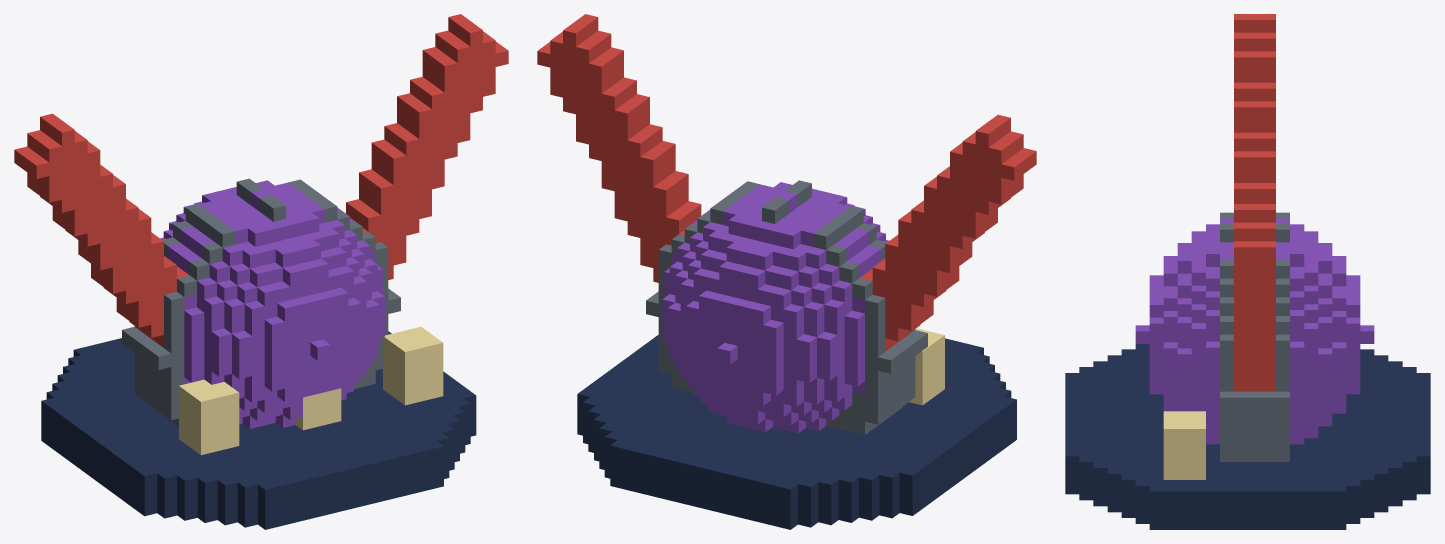
The model's file is voxel_32_60030.glb.
3 renders of one model, left to right at view 1: azimuth 30°, elevation 25°; view 2: azimuth 150°, elevation 25°; view 3: azimuth 270°, elevation 25°, orthographic. The views are drawn at different scales.
Visible parts, largest first — view 1: prop_60030; view 2: prop_60030; view 3: prop_60030.
Boxes of the visible parts, x1,y1,x2,y2 form: prop_60030: (14, 14, 508, 529); prop_60030: (537, 14, 1036, 529); prop_60030: (1065, 14, 1430, 529).
Size of the model in its own units: 0.83 by 0.6281 by 0.5832.
